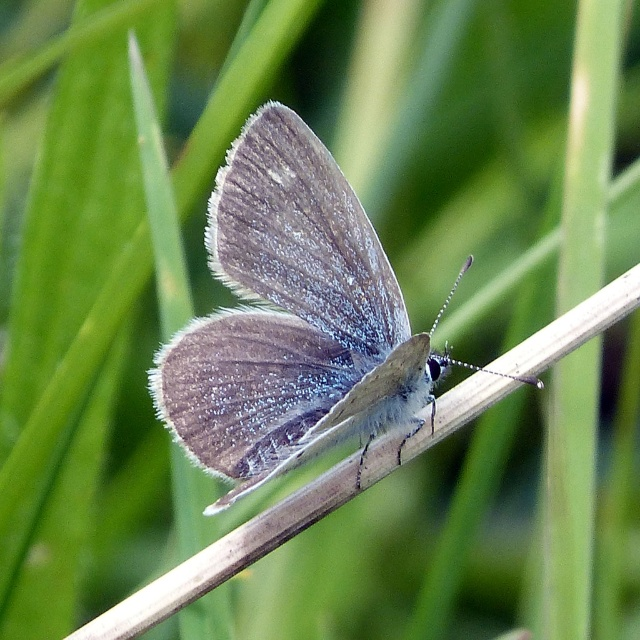Butterfly: (156, 106, 505, 510)
